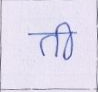i_matra: (58, 21, 73, 59)
